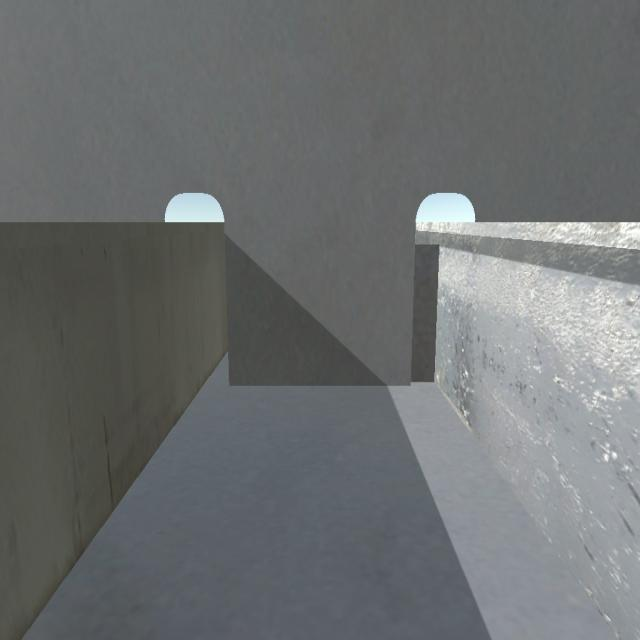fillet_yong_jeop_jang: (227, 377, 437, 387)
longi_yong_jeop_jang: (434, 246, 440, 386)
plate_behind: (414, 244, 438, 384)
